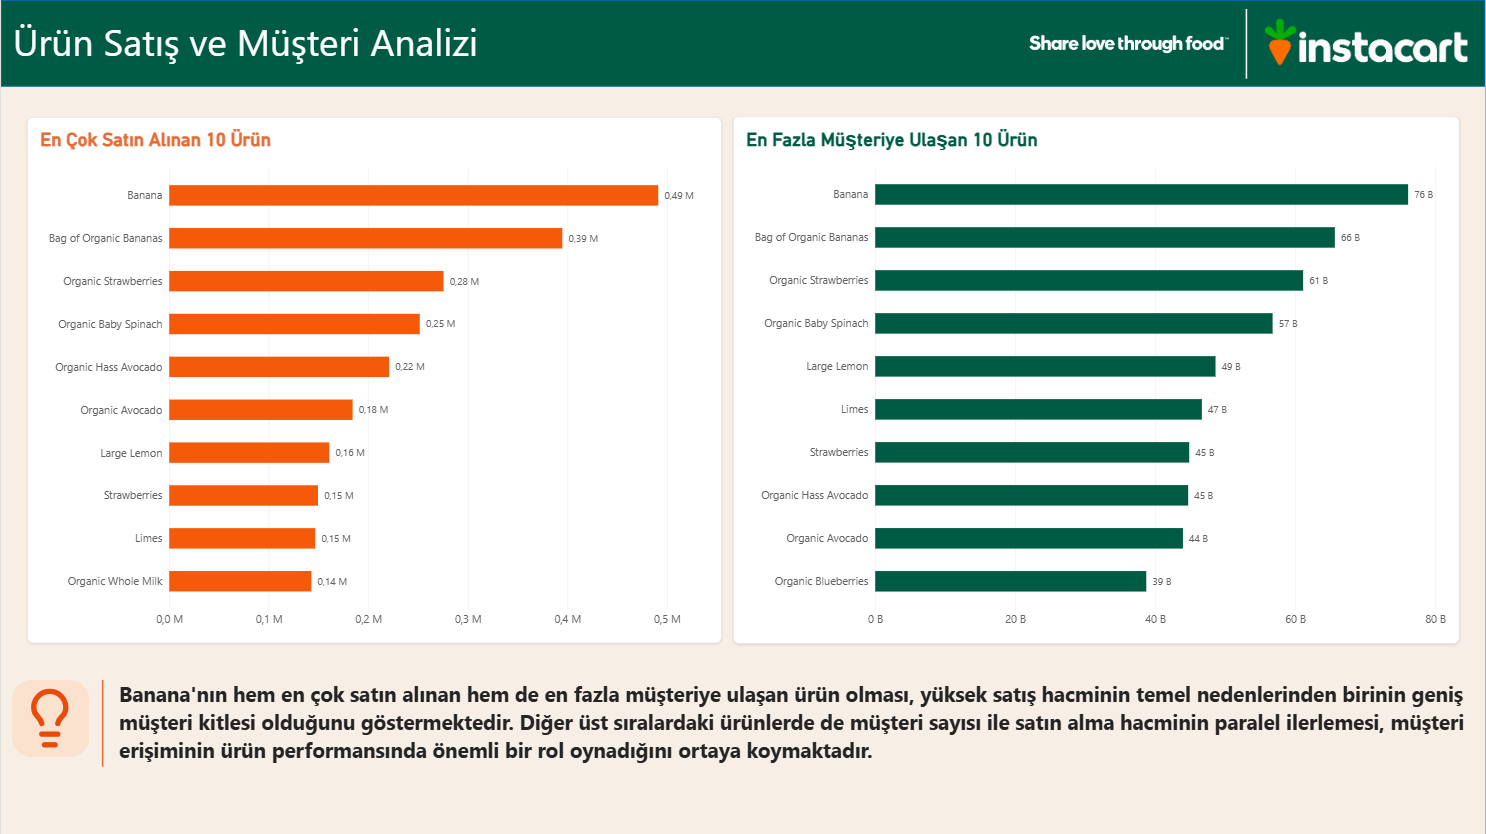

What the dashboard file says about the page in this screenshot:
{"tool":"powerbi","page":{"name":"Ürün Satış ve Müşteri Analizi","canvas":[1920,1080],"ordinal":6},"visuals":[{"type":"image","box":[1323.3,0,271.4,112.3],"z":0,"group":"g1"},{"type":"clusteredBarChart","title":"En Çok Satın Alınan 10 Ürün","fields":{"Category":["mart_product_performance.product_name"],"Y":["Sum(mart_product_performance.total_purchases)"]},"box":[33.6,151.7,898.7,681.3],"z":0},{"type":"shape","box":[14.5,879.8,100,100],"z":0,"group":"g2"},{"type":"shape","box":[1583,11.7,55.4,90.5],"z":1000,"group":"g1"},{"type":"clusteredBarChart","title":"En Fazla Müşteriye Ulaşan 10 Ürün","fields":{"Category":["mart_product_performance.product_name"],"Y":["Sum(mart_product_performance.unique_customers)"]},"box":[946.9,150.3,939.6,682.8],"z":1000},{"type":"image","box":[2.9,887.1,120.7,82.9],"z":1000,"group":"g2"},{"type":"shape","box":[0,0,1920.3,112],"z":2000},{"type":"shape","box":[94.5,879.8,74.2,112],"z":2000,"group":"g2"},{"type":"textbox","box":[153.2,879.8,1750.8,154.7],"z":3000},{"type":"image","box":[1614.6,0,305.4,111.9],"z":4000},{"type":"textbox","box":[16,20.4,739.7,91.9],"z":5000},{"type":"group","id":"g1","title":"Grup 8","box":[1323.3,0,315.1,112.3],"z":6000},{"type":"group","id":"g2","title":"Grup 1","box":[2.9,879.8,166.3,112.3],"z":7000}]}

Visuals, with their boxes in screenshot pixels (x1, y1, x2, y2), scaled from the page's 1920x1080 canvas onto the 1486x834 screenshot:
image: rect(1024, 0, 1234, 87)
"En Çok Satın Alınan 10 Ürün" clusteredBarChart: rect(26, 117, 722, 643)
shape: rect(11, 679, 89, 757)
shape: rect(1225, 9, 1268, 79)
"En Fazla Müşteriye Ulaşan 10 Ürün" clusteredBarChart: rect(733, 116, 1460, 643)
image: rect(2, 685, 96, 749)
shape: rect(0, 0, 1485, 86)
shape: rect(73, 679, 131, 766)
textbox: rect(119, 679, 1474, 799)
image: rect(1250, 0, 1485, 86)
textbox: rect(12, 16, 585, 87)
"Grup 8" group: rect(1024, 0, 1268, 87)
"Grup 1" group: rect(2, 679, 131, 766)
